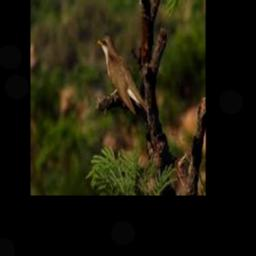Cuckoo: (97, 33, 148, 115)
